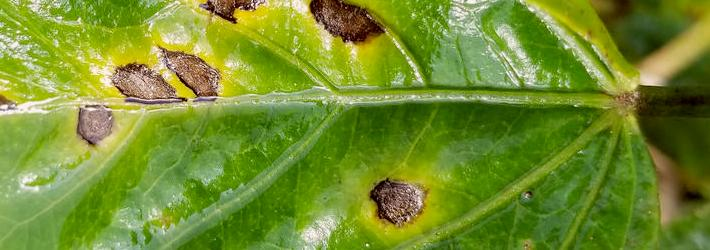Tomato leaf bacterial spot: (0, 0, 658, 250)
